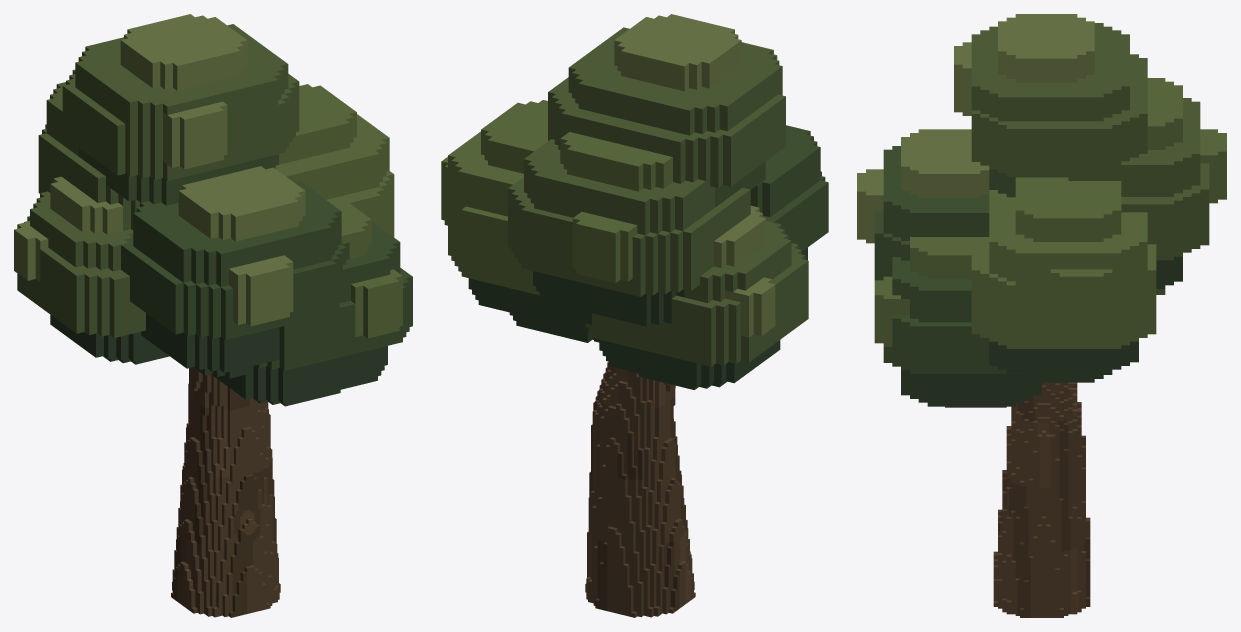
Rendered from oak_mature_3.glb.
3 views of the same model, side by side, from view 1: azimuth 30°, elevation 25°; view 2: azimuth 150°, elevation 25°; view 3: azimuth 270°, elevation 25° (orthographic). The views are drawn at different scales.
Parts seen in each view (by area): view 1: VoxelVisual; view 2: VoxelVisual; view 3: VoxelVisual.
Part boxes in pixels (left/top/right/bottom): VoxelVisual: left=14, top=14, right=412, bottom=617; VoxelVisual: left=441, top=14, right=828, bottom=617; VoxelVisual: left=857, top=14, right=1226, bottom=617.
Size of what is drawn, in the model's own units: 10.5 by 17 by 10.5.
